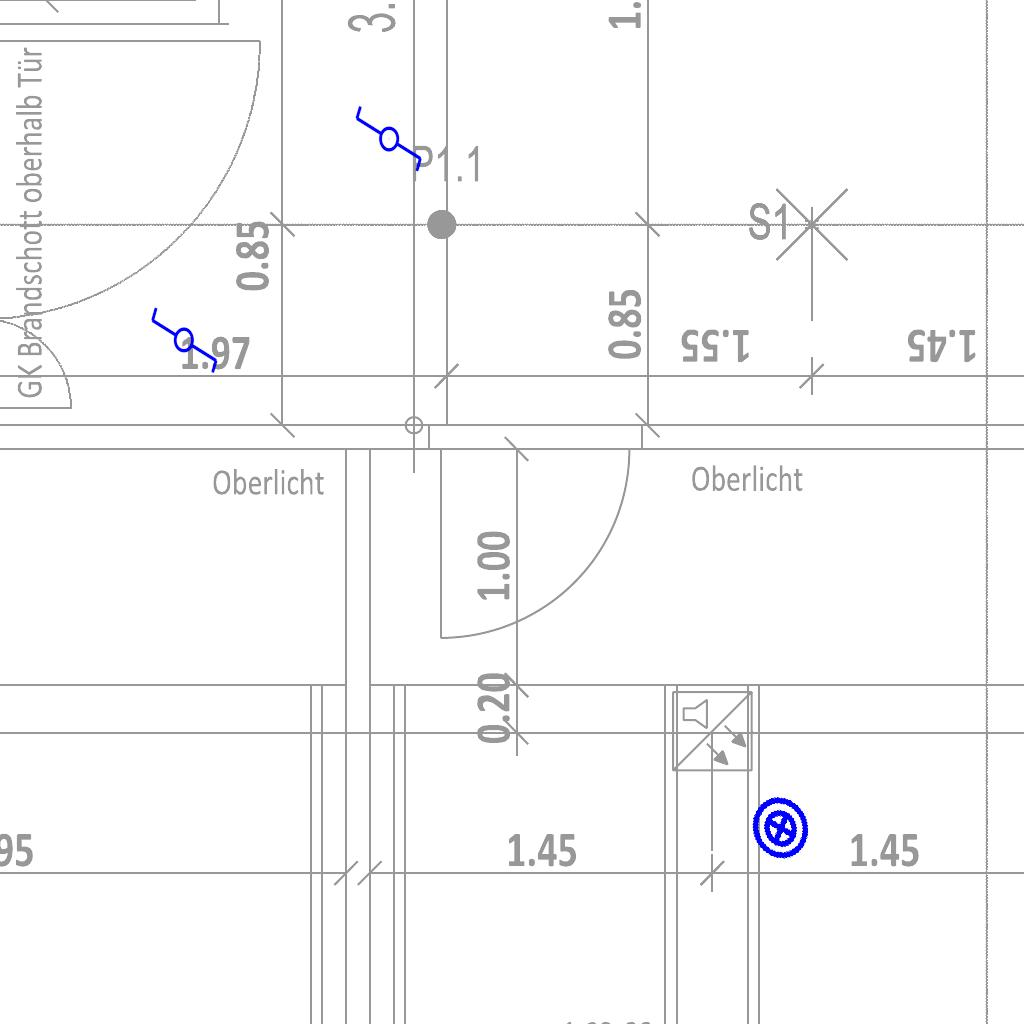Taster_beleuchtet: (739, 786, 823, 870)
Wechselschalter: (352, 104, 424, 182), (149, 297, 221, 375)
